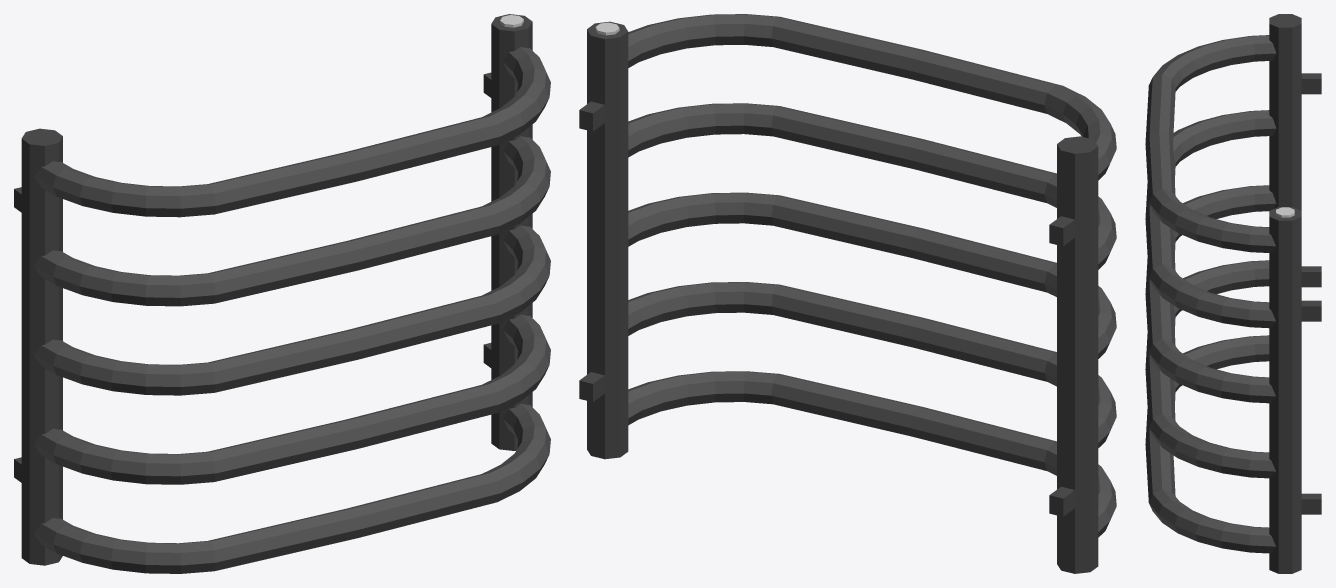
Rendered from TowelRail_04.fbx.
3 views of the same model, side by side, from view 1: azimuth 30°, elevation 25°; view 2: azimuth 150°, elevation 25°; view 3: azimuth 270°, elevation 25° (orthographic). The views are drawn at different scales.
Visible parts, largest first — view 1: TowelRail_04; view 2: TowelRail_04; view 3: TowelRail_04.
Boxes of the visible parts, x1,y1,x2,y2 form: TowelRail_04: (14, 14, 550, 573); TowelRail_04: (579, 14, 1116, 573); TowelRail_04: (1145, 14, 1321, 573).
Bounding box in the file's own units: 61.26 × 49.17 × 22.05.
